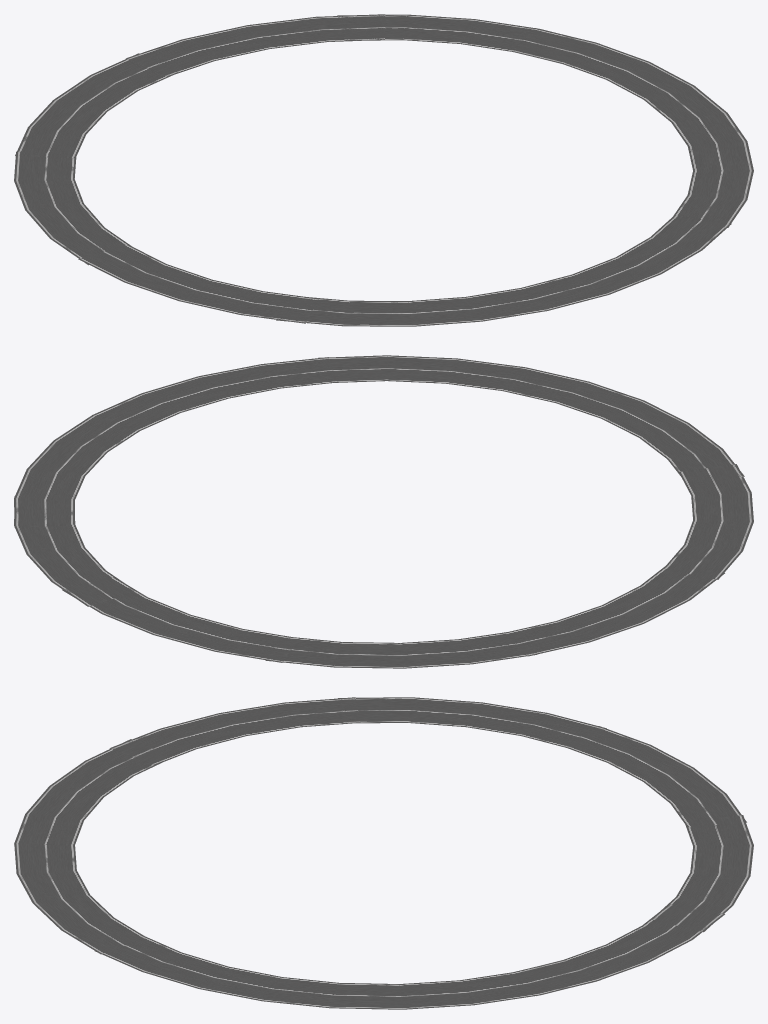
The model's file is Roundabout_Road.FBX.
3 views of the same model, one above another, from view 1: azimuth 30°, elevation 25°; view 2: azimuth 150°, elevation 25°; view 3: azimuth 270°, elevation 25° (orthographic).
Parts seen in each view (by area): view 1: Plane013, Plane012, Plane019, Plane011, Plane018, Plane017, Plane015, Plane014, Plane016; view 2: Plane018, Plane011, Plane019, Plane014, Plane017, Plane013, Plane012, Plane015, Plane016; view 3: Plane011, Plane012, Plane019, Plane013, Plane014, Plane018, Plane015, Plane017, Plane016.
Boxes of the visible parts, x1,y1,x2,y2 form: Plane013: [126, 14, 385, 76]; Plane012: [511, 28, 727, 122]; Plane019: [520, 215, 731, 310]; Plane011: [78, 244, 318, 323]; Plane018: [671, 113, 753, 227]; Plane017: [15, 53, 178, 158]; Plane015: [276, 288, 548, 326]; Plane014: [14, 151, 135, 265]; Plane016: [337, 14, 599, 63]; Plane018: [93, 357, 337, 430]; Plane011: [663, 464, 753, 579]; Plane019: [318, 355, 589, 402]; Plane014: [505, 563, 724, 656]; Plane017: [265, 632, 537, 668]; Plane013: [62, 577, 293, 662]; Plane012: [14, 414, 140, 527]; Plane015: [555, 381, 744, 477]; Plane016: [14, 496, 130, 606]; Plane011: [109, 697, 360, 765]; Plane012: [329, 959, 599, 1009]; Plane019: [14, 842, 145, 954]; Plane013: [652, 815, 753, 932]; Plane014: [338, 697, 606, 748]; Plane018: [95, 935, 339, 1007]; Plane015: [14, 739, 168, 845]; Plane017: [564, 726, 746, 827]; Plane016: [511, 904, 724, 990].
Size of the model in its own units: 282 by 1.72e-06 by 282.
1 material, 1 textured.
